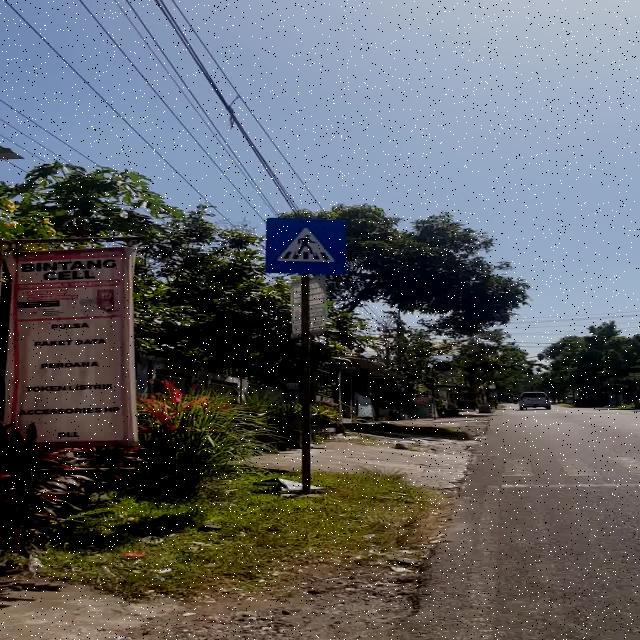Perintah Jalur Penyebrangan: (266, 218, 346, 273)
